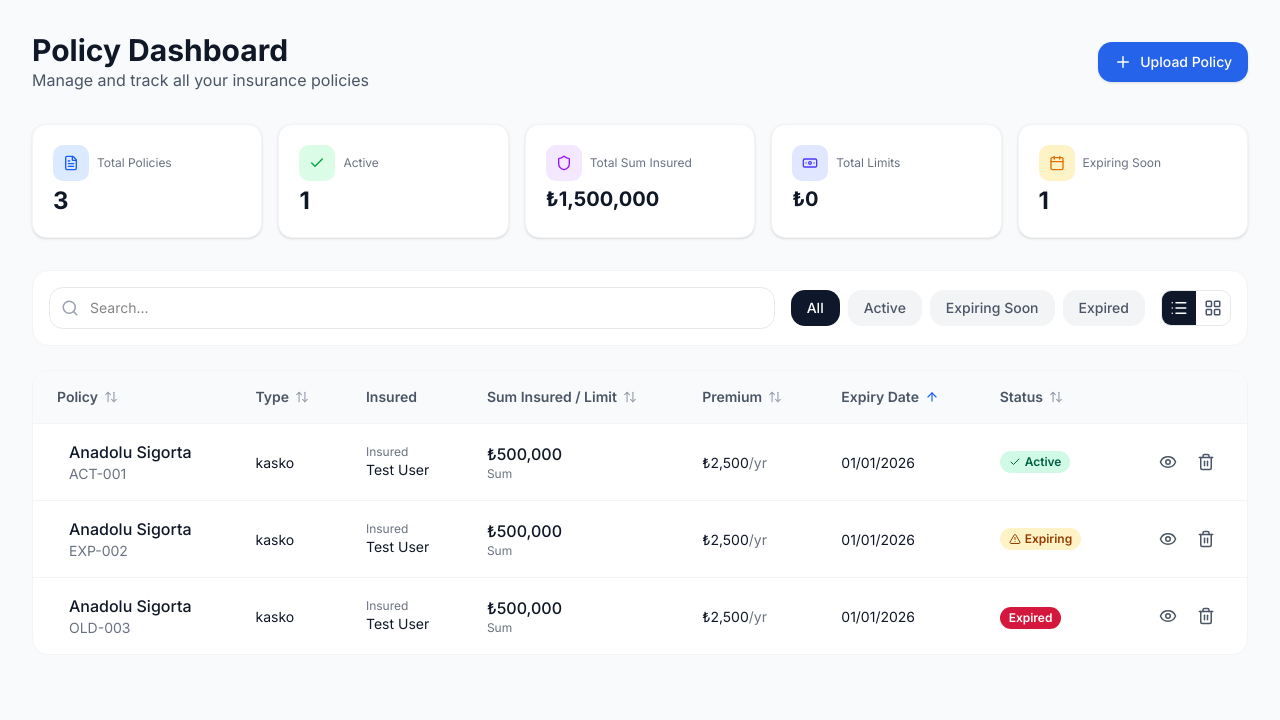
Test: PolicyDashboard Branch Coverage › Status filter › filters to expiring only
Click the button "Expiring Soon" at x=992, y=308, box [930, 290, 1055, 326]
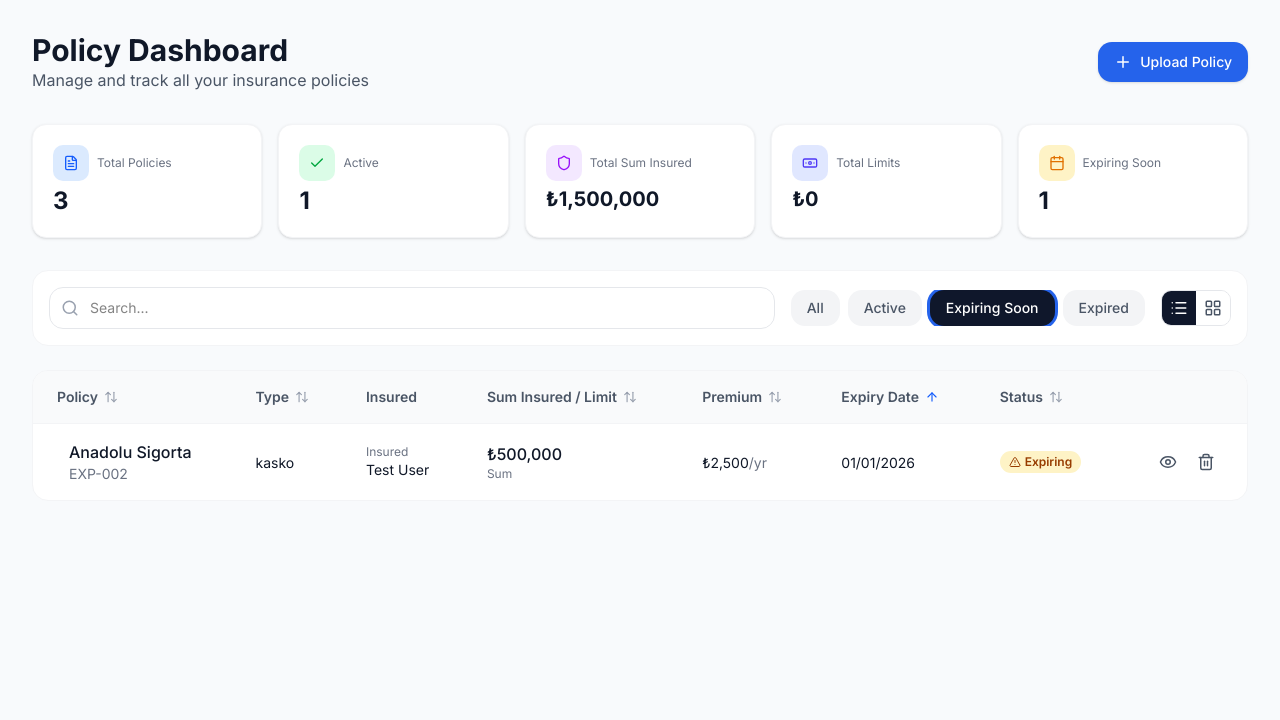
Expected: the text "EXP-002" is shown, [69, 465, 128, 482]
Now the text "ACT-001" is gone
